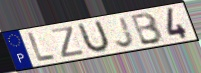4: (165, 6, 189, 41)
B: (130, 11, 165, 47)
J: (114, 15, 137, 49)
L: (26, 31, 57, 63)
U: (77, 19, 111, 55)
Z: (50, 25, 87, 59)
